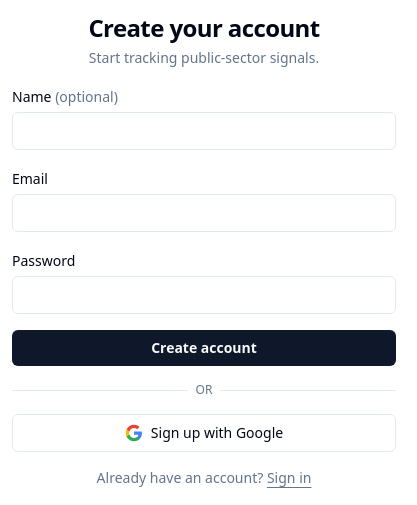
Scenario: SignupForm › submits a valid form and shows the verification message
Type "maya@example.com" into the field labelled "Email" at (204,213), box [12,194,396,232]
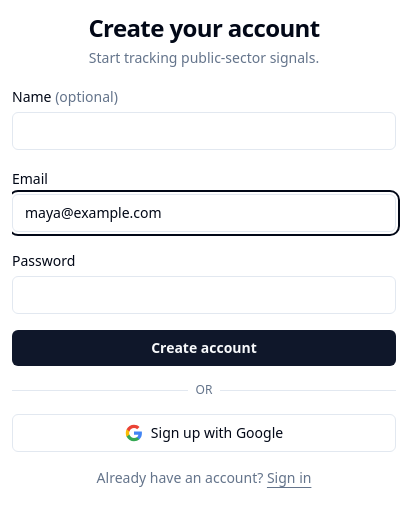
Type "s3cure-pa55word" into the password field labelled "Password" at (204,295), box [12,276,396,314]
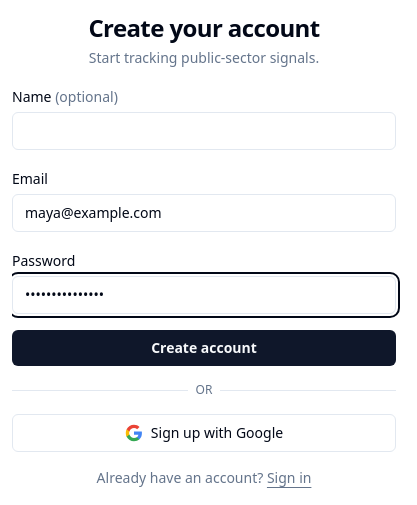
Click the button "Create account" at (204,348), box [12,330,396,366]
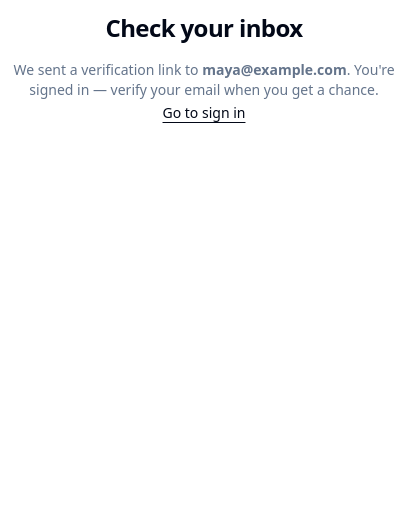
Expected: the element with test id "signup-success" is shown, [12,12,396,124]
